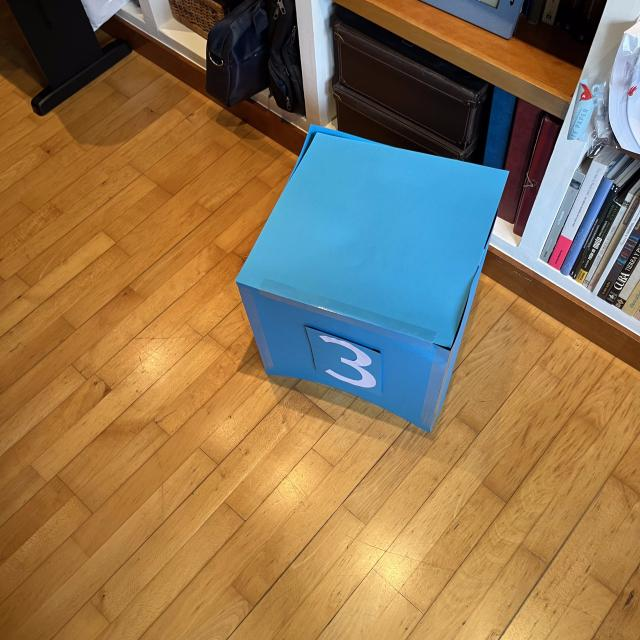box: (232, 122, 511, 434)
